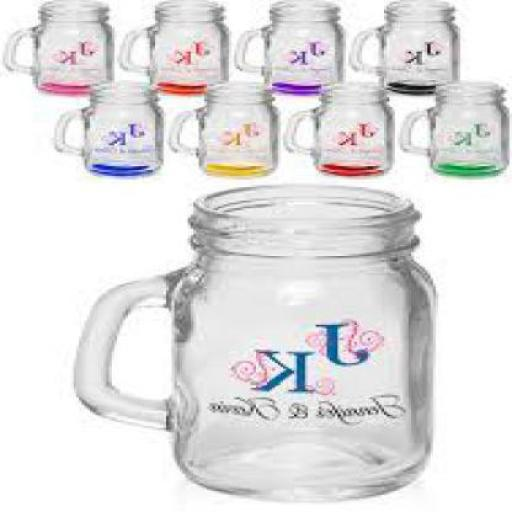glass: (76, 185, 441, 497), (57, 80, 163, 174), (172, 80, 280, 172), (240, 0, 348, 92), (289, 82, 398, 172), (8, 0, 114, 92), (403, 82, 509, 174), (354, 4, 463, 92), (122, 4, 228, 92)
